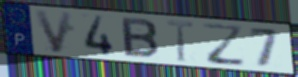4: (82, 14, 116, 57)
7: (249, 27, 282, 69)
B: (120, 15, 160, 60)
T: (165, 18, 197, 63)
V: (32, 9, 75, 55)
Z: (201, 22, 248, 68)
